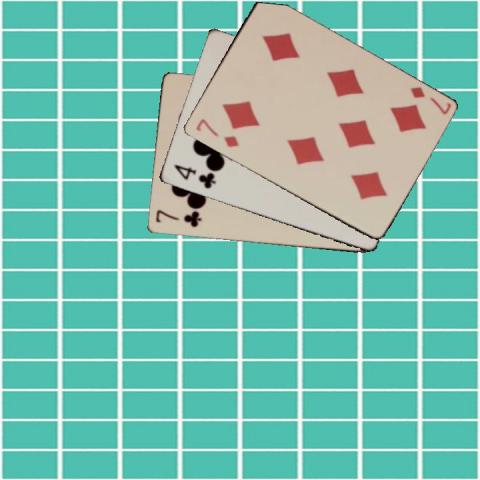4c: (171, 161, 217, 191)
7c: (153, 207, 202, 229)
7d: (192, 116, 240, 149), (407, 83, 452, 117)
